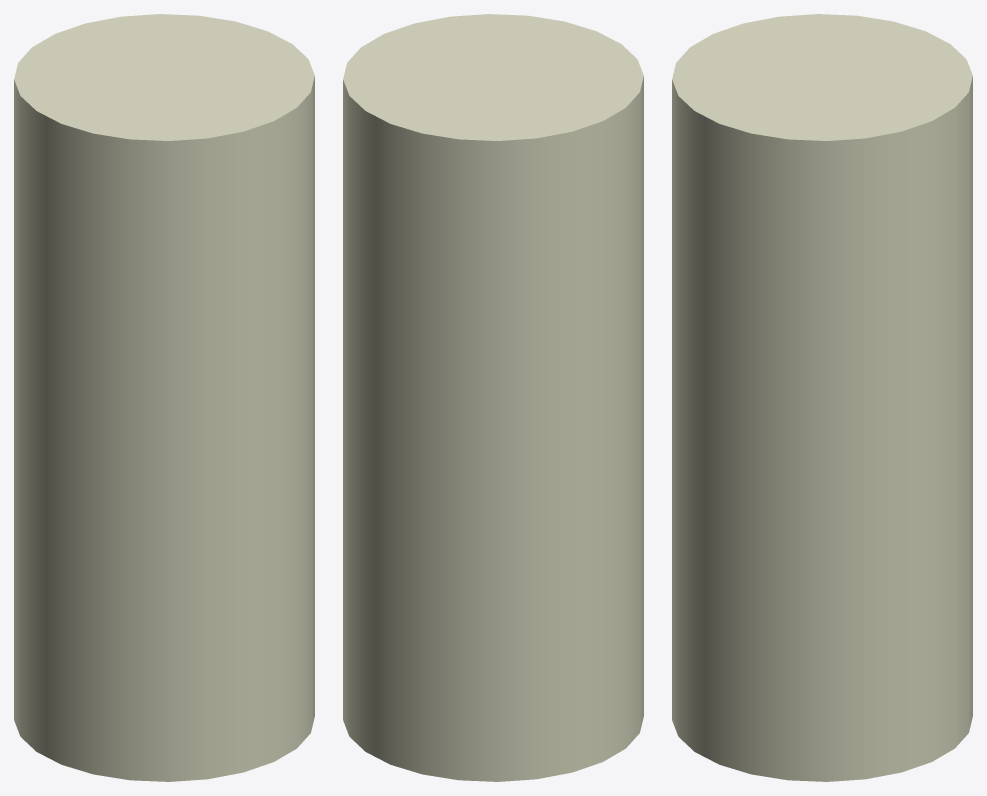
The model's file is original-6.obj.
3 renders of one model, left to right at view 1: azimuth 30°, elevation 25°; view 2: azimuth 150°, elevation 25°; view 3: azimuth 270°, elevation 25°, orthographic.
Parts seen in each view (by area): view 1: Group6/mesh16/mesh16-geometry#mesh16-geometry; view 2: Group6/mesh16/mesh16-geometry#mesh16-geometry; view 3: Group6/mesh16/mesh16-geometry#mesh16-geometry.
Part boxes in pixels (x1=…): Group6/mesh16/mesh16-geometry#mesh16-geometry: x1=14, y1=14, x2=314, y2=781; Group6/mesh16/mesh16-geometry#mesh16-geometry: x1=343, y1=14, x2=643, y2=781; Group6/mesh16/mesh16-geometry#mesh16-geometry: x1=672, y1=14, x2=972, y2=781.
Size of the model in its own units: 0.076 by 0.1786 by 0.076.
